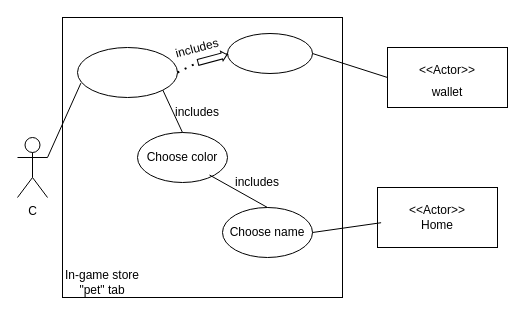
Image size: 525x315. Some labels were removed from this diagram. The centre of each missing label's shape, as x and y in pixels:
Choose pet type: point 127,72
Verify balance: point 269,53
